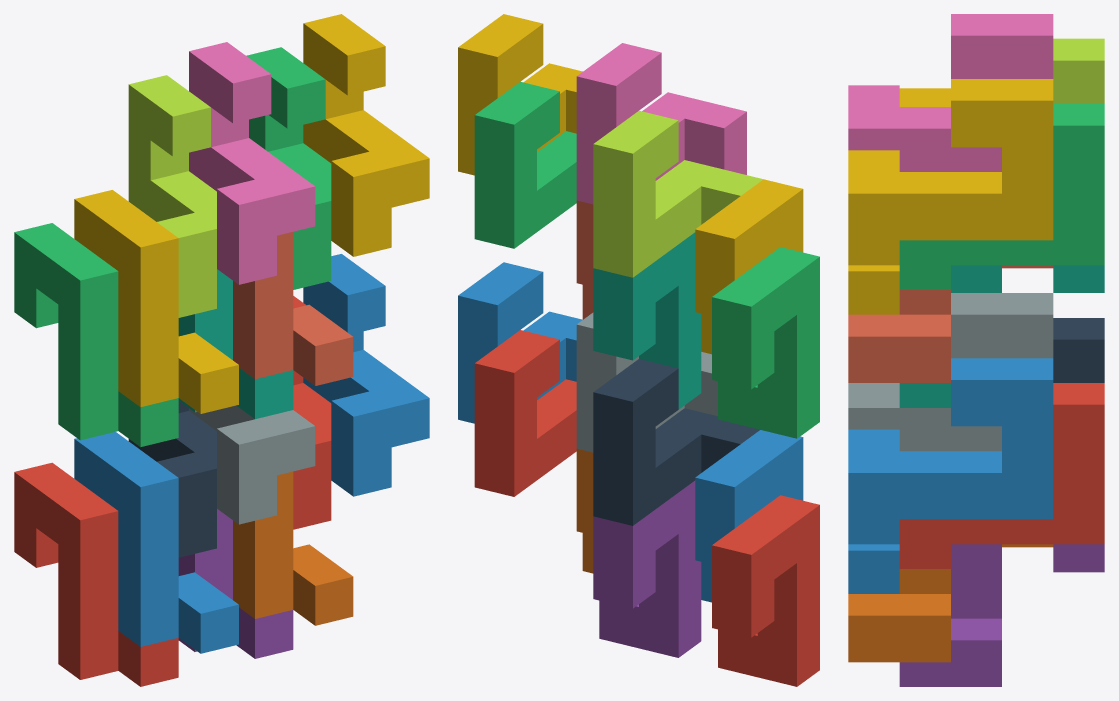
Rendered from tiling.obj.
3 renders of one model, left to right at view 1: azimuth 30°, elevation 25°; view 2: azimuth 150°, elevation 25°; view 3: azimuth 270°, elevation 25°, orthographic. The views are drawn at different scales.
Visible parts, largest first — view 1: copy_1_domain_3, copy_1_domain_1, copy_1_domain_4, copy_1_domain_2, copy_2_domain_8, copy_2_domain_4, copy_2_domain_6, copy_2_domain_3, copy_1_domain_6, copy_1_domain_8, copy_2_domain_7, copy_2_domain_2 (+4 smaller); view 2: copy_1_domain_3, copy_1_domain_1, copy_2_domain_3, copy_2_domain_1, copy_1_domain_5, copy_2_domain_5, copy_2_domain_7, copy_2_domain_4, copy_1_domain_7, copy_1_domain_4, copy_2_domain_6, copy_2_domain_8 (+4 smaller); view 3: copy_2_domain_6, copy_2_domain_8, copy_2_domain_4, copy_2_domain_5, copy_2_domain_7, copy_2_domain_2, copy_1_domain_5, copy_1_domain_6, copy_1_domain_8, copy_1_domain_7, copy_1_domain_4, copy_2_domain_3 (+2 smaller).
Boxes of the visible parts, box(x1,y1,x2,y2) form: copy_1_domain_3: box(14, 223, 178, 447); copy_1_domain_1: box(14, 462, 178, 686); copy_1_domain_4: box(74, 190, 238, 413); copy_1_domain_2: box(74, 432, 238, 653); copy_2_domain_8: box(303, 14, 429, 256); copy_2_domain_4: box(189, 42, 315, 284); copy_2_domain_6: box(303, 254, 429, 496); copy_2_domain_3: box(128, 75, 216, 317); copy_1_domain_6: box(233, 471, 353, 625); copy_1_domain_8: box(233, 232, 353, 385); copy_2_domain_7: box(246, 47, 331, 289); copy_2_domain_2: box(189, 405, 315, 524); copy_1_domain_3: box(712, 247, 819, 438); copy_1_domain_1: box(712, 495, 819, 686); copy_2_domain_3: box(593, 110, 763, 277); copy_2_domain_1: box(593, 359, 759, 525); copy_1_domain_5: box(593, 480, 701, 657); copy_2_domain_5: box(474, 330, 576, 496); copy_2_domain_7: box(474, 81, 576, 248); copy_2_domain_4: box(576, 43, 746, 204); copy_1_domain_7: box(593, 232, 701, 409); copy_1_domain_4: box(695, 179, 803, 354); copy_2_domain_6: box(458, 262, 582, 423); copy_2_domain_8: box(458, 14, 582, 175); copy_2_domain_6: box(848, 358, 1053, 544); copy_2_domain_8: box(848, 79, 1053, 265); copy_2_domain_4: box(848, 14, 1053, 171); copy_2_domain_5: box(899, 383, 1104, 568); copy_2_domain_7: box(899, 104, 1104, 289); copy_2_domain_2: box(848, 293, 1053, 451); copy_1_domain_5: box(899, 544, 1104, 686); copy_1_domain_6: box(848, 544, 1053, 662); copy_1_domain_8: box(848, 265, 1053, 382); copy_1_domain_7: box(899, 265, 1104, 407); copy_1_domain_4: box(848, 88, 950, 314); copy_2_domain_3: box(1053, 38, 1104, 103).
Size of the model in its own units: 8 by 14 by 5.
